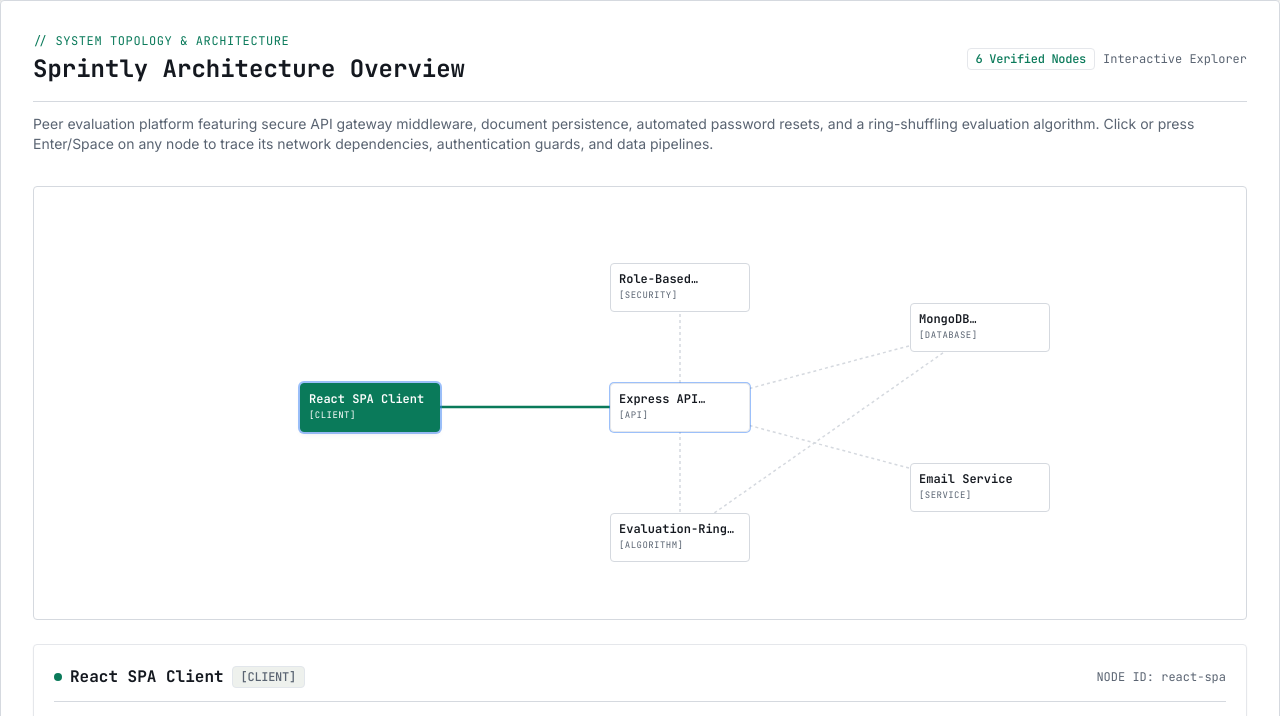
Test: ArchitectureExplorer Component › renders Sprintly architecture with ring-algorithm node and security middleware
The width and height of the screenshot is (1280, 716).
Expected: the heading "Sprintly Architecture Overview" is shown, top-left (33, 53), bottom-right (465, 85)
Click the button "Evaluation-Ring Algorithm [algorithm]": (680, 538) top-left (610, 513), bottom-right (750, 562)
(page scrolled)
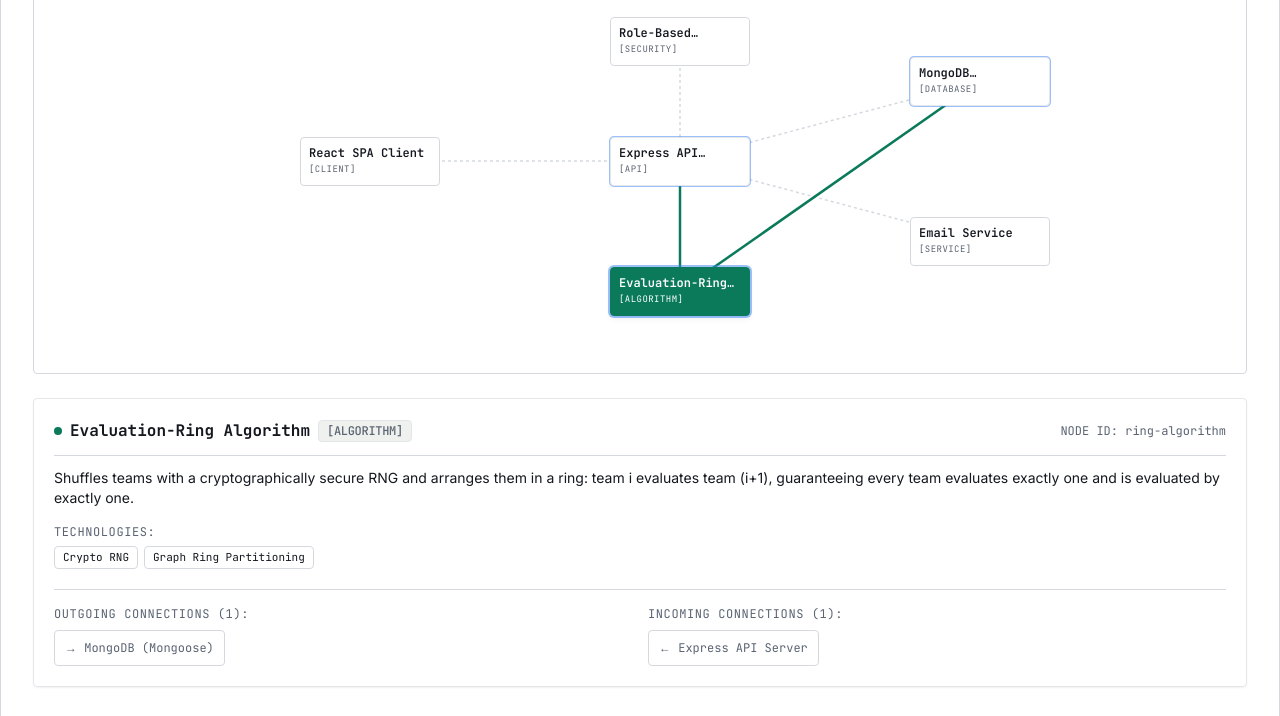
Result: the element with test id "node-detail-panel" shows "Crypto RNG" at top-left (63, 550), bottom-right (129, 564)
Result: the element with test id "node-detail-panel" shows "Graph Ring Partitioning" at top-left (153, 550), bottom-right (305, 564)
